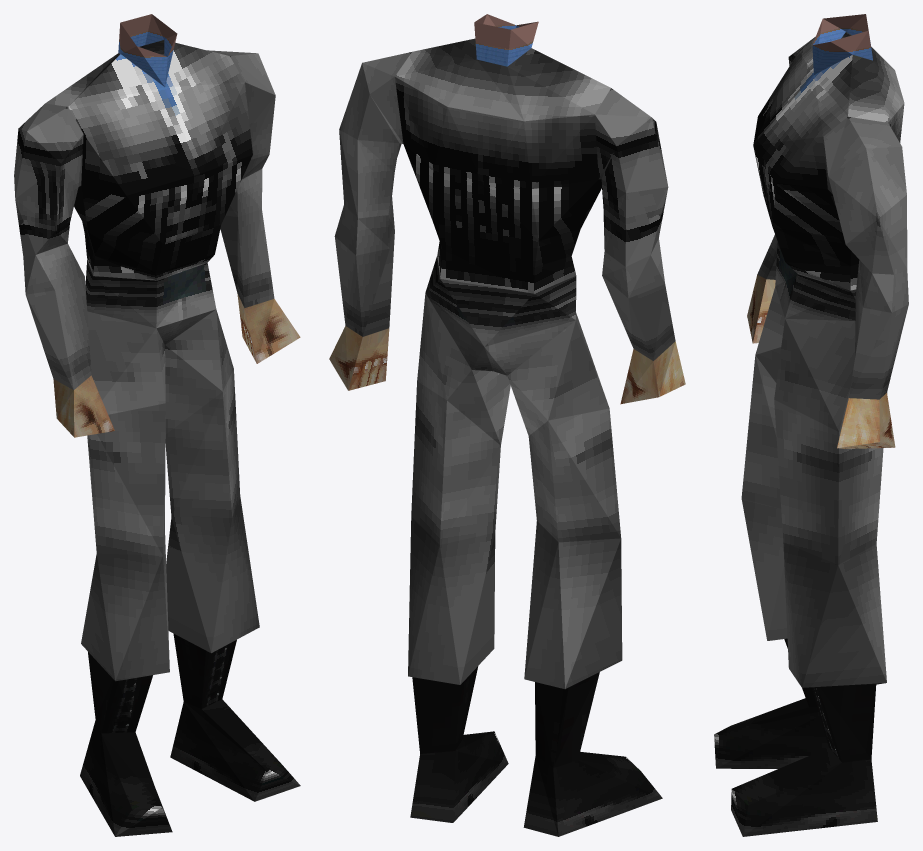
Rendered from primary_026.glb.
3 renders of one model, left to right at view 1: azimuth 30°, elevation 25°; view 2: azimuth 150°, elevation 25°; view 3: azimuth 270°, elevation 25°, orthographic. The views are drawn at different scales.
Visible parts, largest first — view 1: Object; view 2: Object; view 3: Object.
Part boxes in pixels (<box>): Object: <box>14,14,300,836</box>; Object: <box>329,14,685,836</box>; Object: <box>714,14,908,836</box>.
Size of the model in its own units: 0.7432 by 1.83 by 0.4216.
69 materials, 69 textured.
